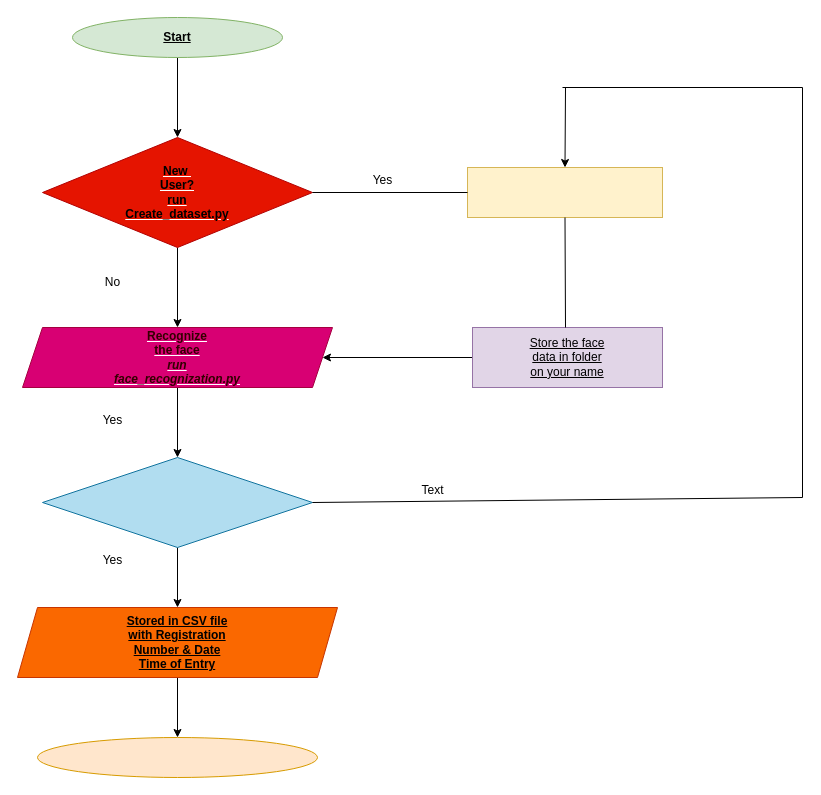
Image size: 821x795. Some labels were removed from this diagram. Each missing label, with the centre of its shape:
End: point (177, 757)
Face Recognized: point (177, 502)
Give ypur Photograph: point (564, 192)
